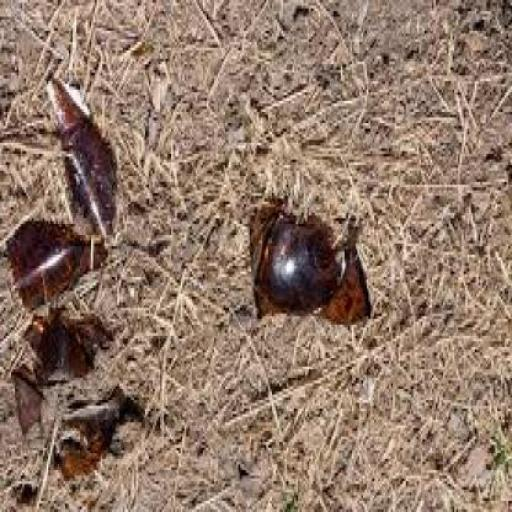glass: (249, 210, 375, 330), (48, 73, 119, 246), (8, 224, 108, 316), (50, 389, 149, 481), (26, 316, 113, 389), (13, 372, 45, 436), (9, 473, 39, 507)
